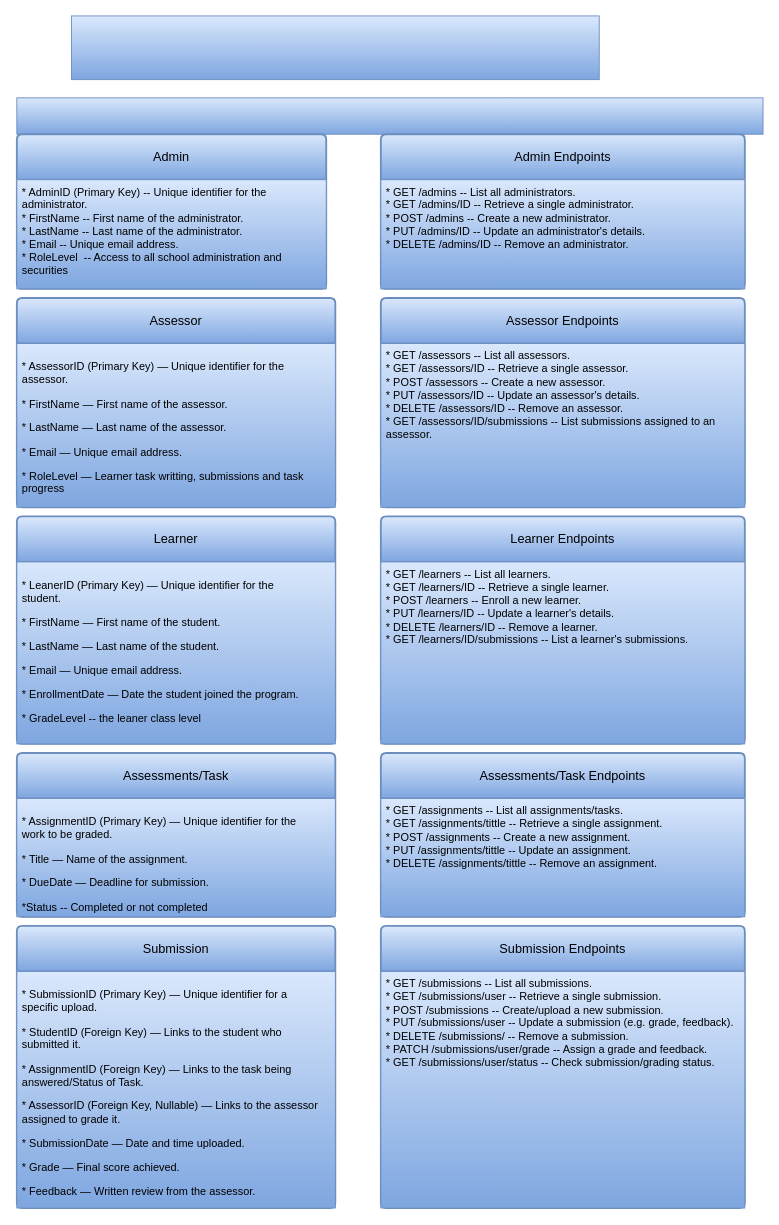
This 779x1225 diagram has some shape labels left out. Each missing label, with the centre of its shape:
"Entities and attribute (Admin, Assessor and leaner) and API Endpoits" belongs at [389,115].
"Skills Task Program - Data modeling" belongs at [335,47].
